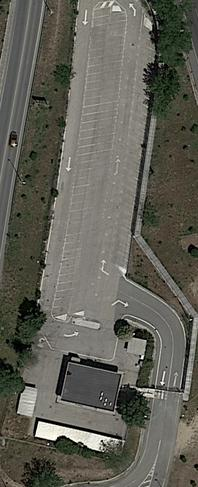parkingspot: (51, 6, 112, 316), (108, 24, 159, 271), (94, 11, 128, 154)
